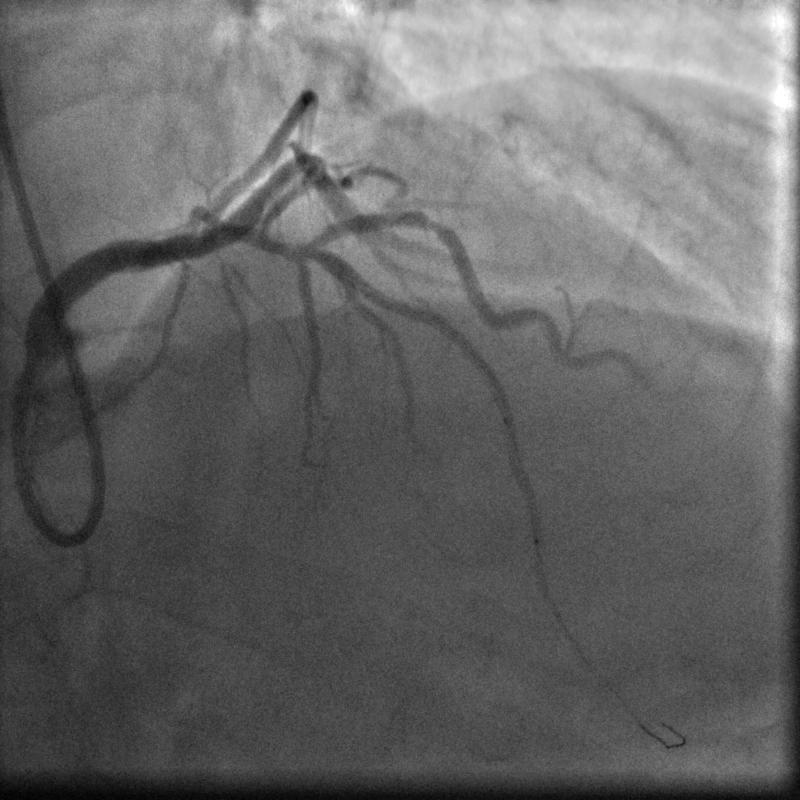Stenosis: (415, 207, 447, 242)
